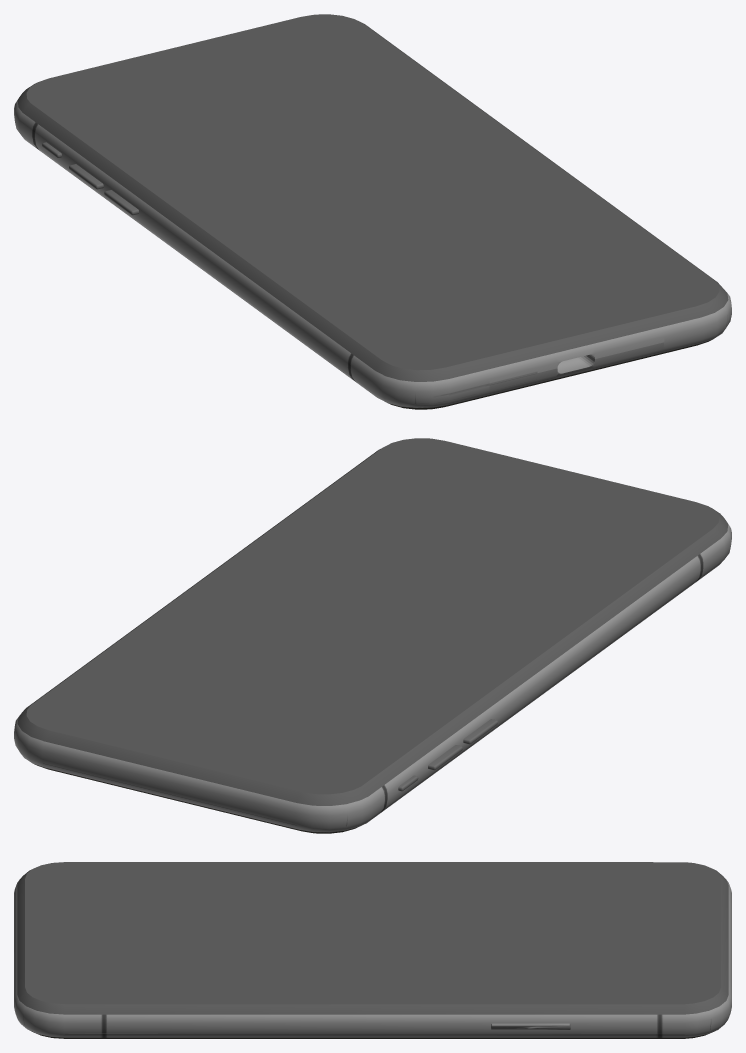
Rendered from i phone.fbx.
3 renders of one model, top to bottom at view 1: azimuth 30°, elevation 25°; view 2: azimuth 150°, elevation 25°; view 3: azimuth 270°, elevation 25°, orthographic. The views are drawn at different scales.
Visible parts, largest first — view 1: Glass, body; view 2: Glass, body; view 3: Glass, body.
Boxes of the visible parts, x1,y1,x2,y2 form: Glass: (17, 14, 728, 381); body: (14, 96, 731, 409); Glass: (17, 438, 728, 805); body: (14, 518, 731, 833); Glass: (17, 862, 728, 1014); body: (14, 881, 731, 1038).
Size of the model in its own units: 7.47 by 0.8398 by 14.44.
Materials: 2 (2 with a texture image).
